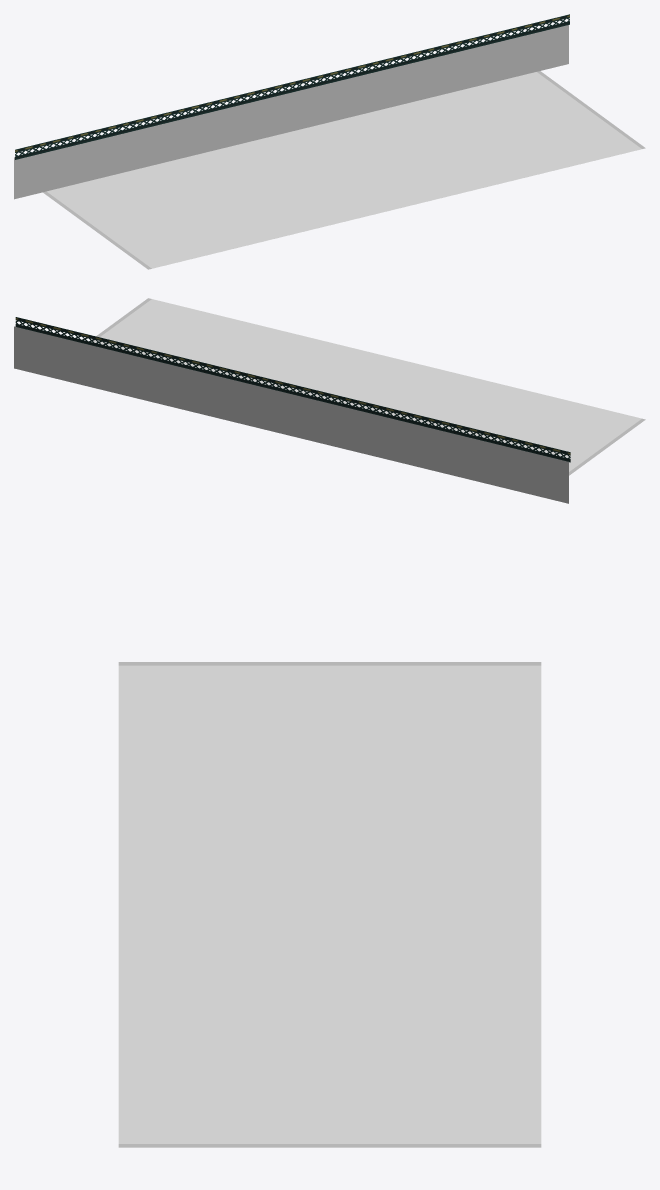
File: background_c.FBX
3 renders of one model, top to bottom at view 1: azimuth 30°, elevation 25°; view 2: azimuth 150°, elevation 25°; view 3: azimuth 270°, elevation 25°, orthographic. The views are drawn at different scales.
Parts seen in each view (by area): view 1: navimesh, wall, chulgole, badak; view 2: navimesh, wall, chulgole, badak; view 3: navimesh, badak.
Part boxes in pixels (x1,y1,x2,y2): navimesh: (47,72,641,268); wall: (14,25,568,199); chulgole: (15,14,569,159); badak: (43,71,645,269); navimesh: (94,299,641,471); wall: (14,326,568,503); chulgole: (15,317,570,462); badak: (91,298,645,475); navimesh: (118,665,541,1143); badak: (118,662,541,1147).
Size of the model in its own units: 9168 by 3021 by 801.
